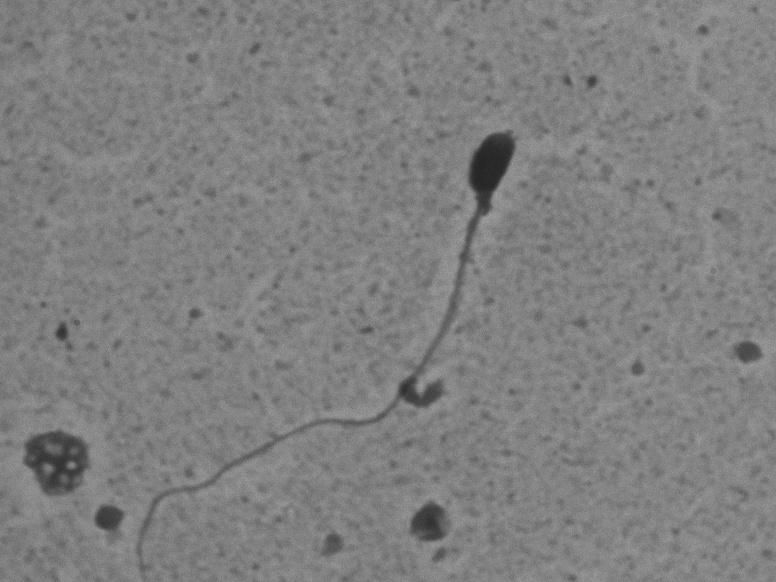Abnormal: (124, 117, 531, 572)
